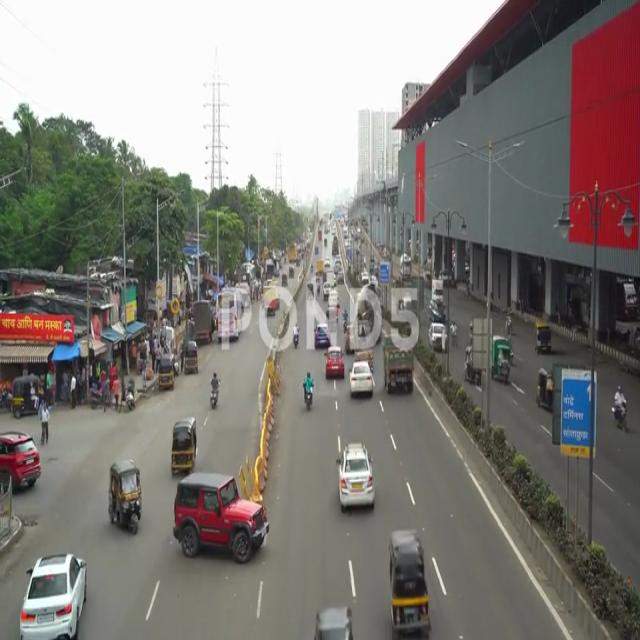cab: (532, 318, 554, 356)
car: (175, 471, 268, 566), (15, 543, 89, 640), (334, 440, 379, 508), (0, 434, 45, 490), (347, 360, 375, 398)
motorbike: (610, 380, 634, 440), (302, 366, 316, 422)
rikshaw: (386, 525, 434, 638), (108, 455, 145, 548)
truck: (492, 331, 512, 387)
